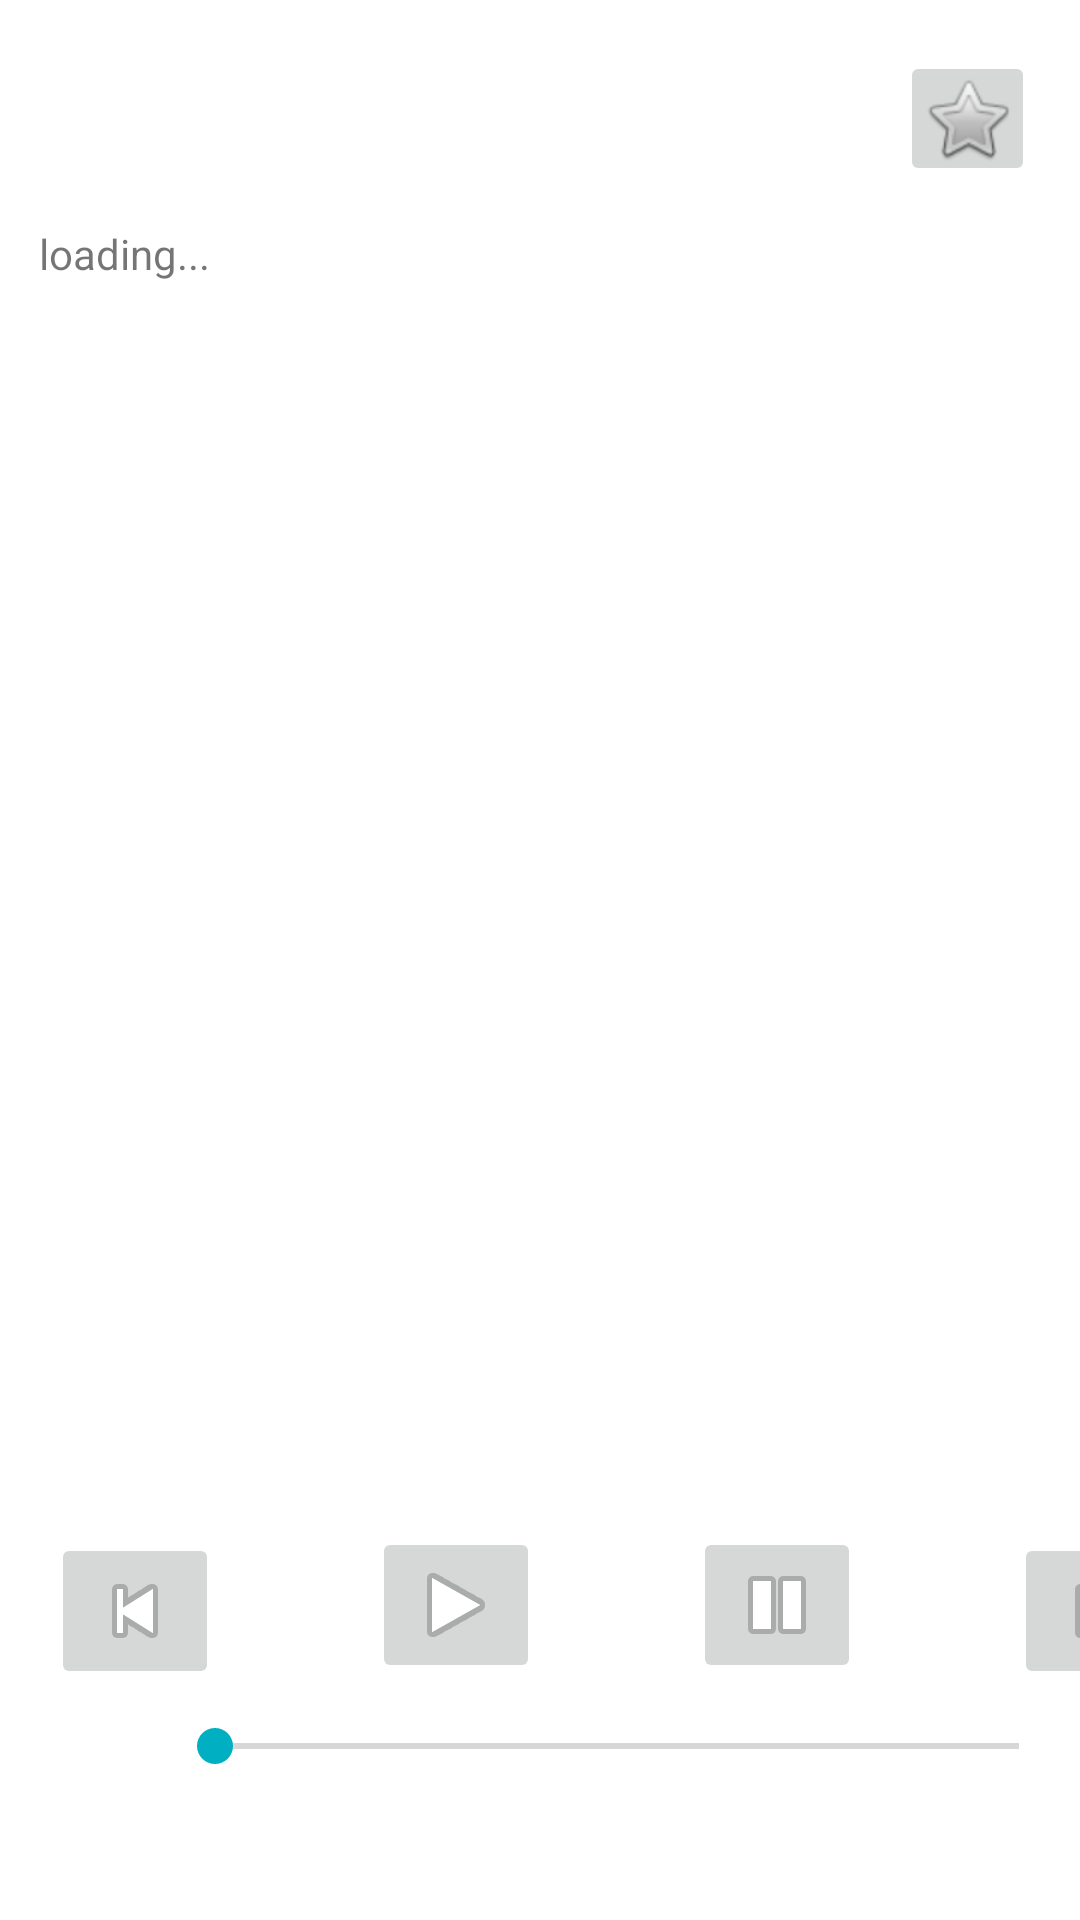

Where to tap for icons on this 1080w x 1920h app screen, as point (x, y):
pause: point (777, 1605)
play: point (456, 1605)
previous: point (135, 1611)
star: point (967, 118)
